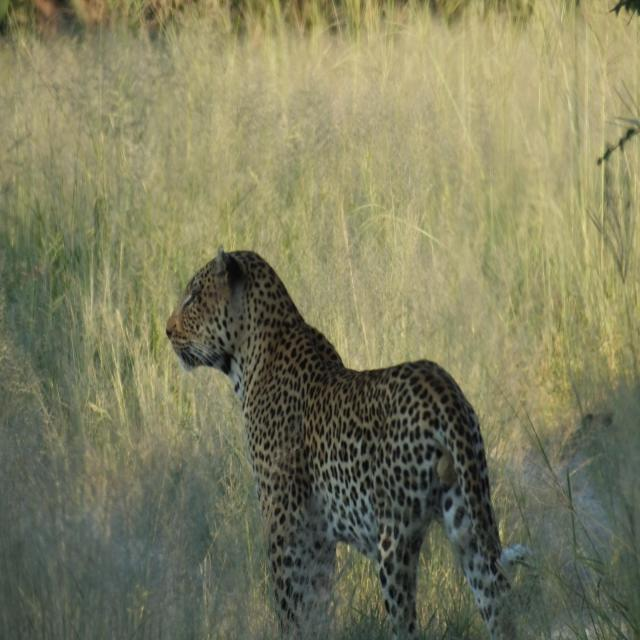Leopard: (167, 228, 542, 640)
